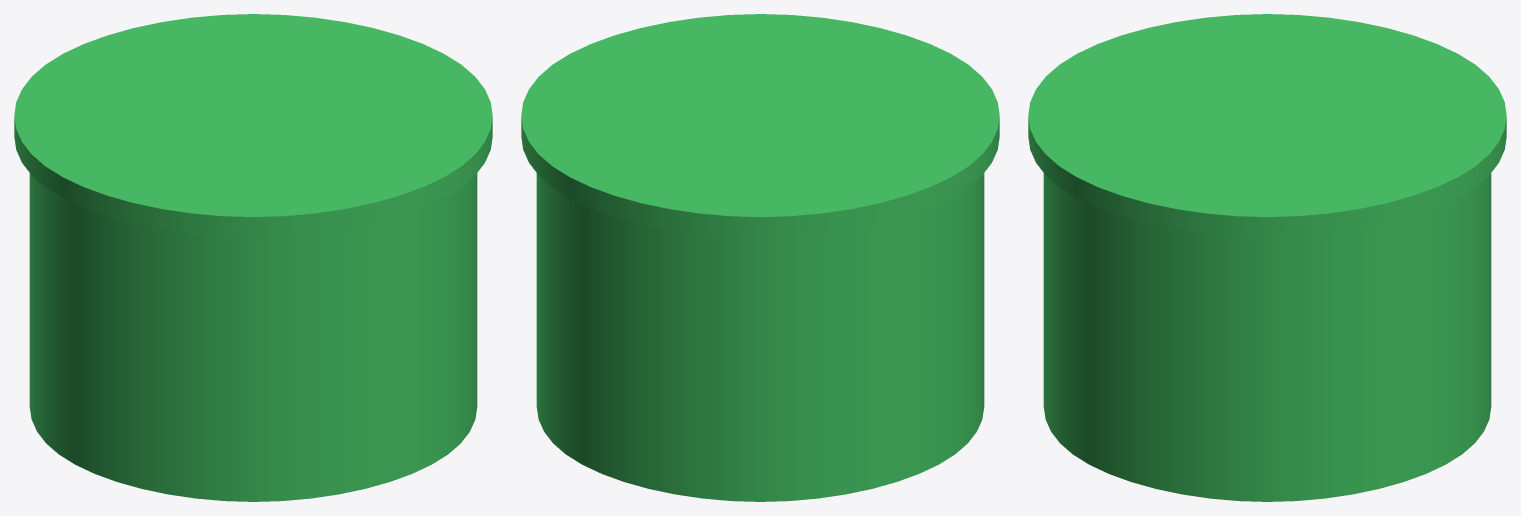
The model's file is Plot.fbx.
3 views of the same model, side by side, from view 1: azimuth 30°, elevation 25°; view 2: azimuth 150°, elevation 25°; view 3: azimuth 270°, elevation 25° (orthographic).
Parts seen in each view (by area): view 1: Plot; view 2: Plot; view 3: Plot.
Boxes of the visible parts, box(x1,y1,x2,y2) form: Plot: box(14, 14, 492, 501); Plot: box(521, 14, 999, 501); Plot: box(1028, 14, 1506, 501).
Bounding box in the file's own units: 89.39 × 59.8 × 88.99.
